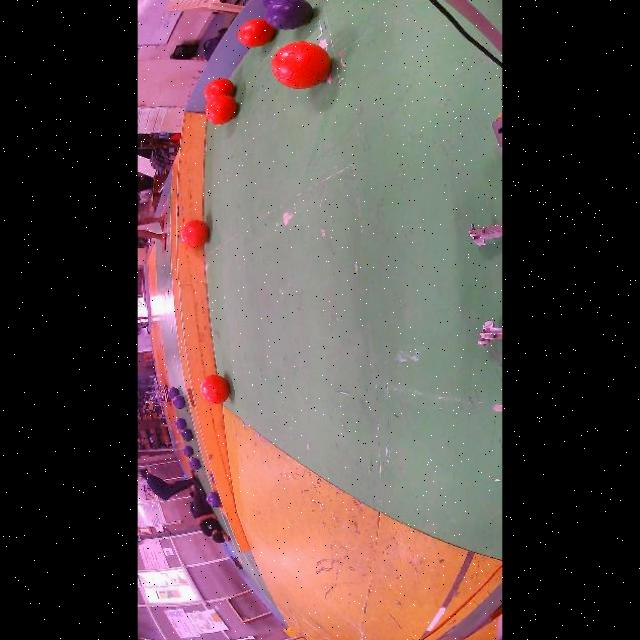P: (263, 0, 311, 30), (205, 491, 222, 508), (187, 458, 200, 471), (172, 396, 185, 409), (172, 418, 186, 430), (167, 387, 178, 399), (181, 446, 192, 457), (261, 0, 276, 8)
R: (271, 42, 330, 89), (237, 19, 273, 47), (204, 95, 237, 124), (199, 375, 228, 404), (181, 220, 208, 248), (203, 78, 234, 101)
